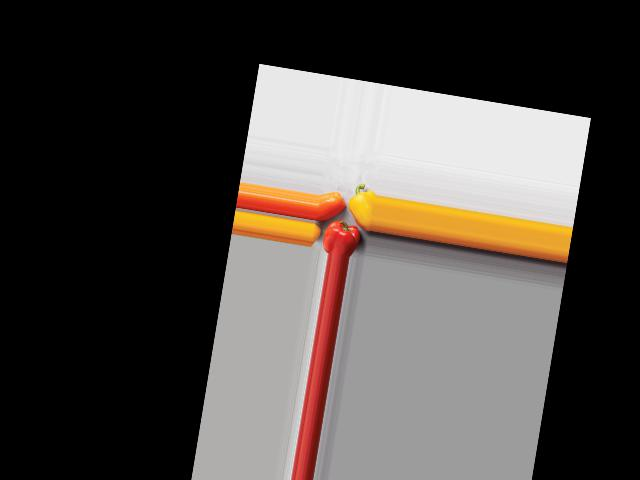bell_pepper: (321, 219, 364, 257)
